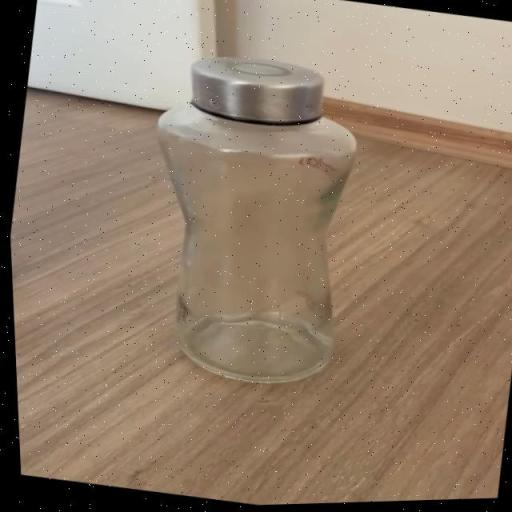plastic: (155, 58, 356, 388)
